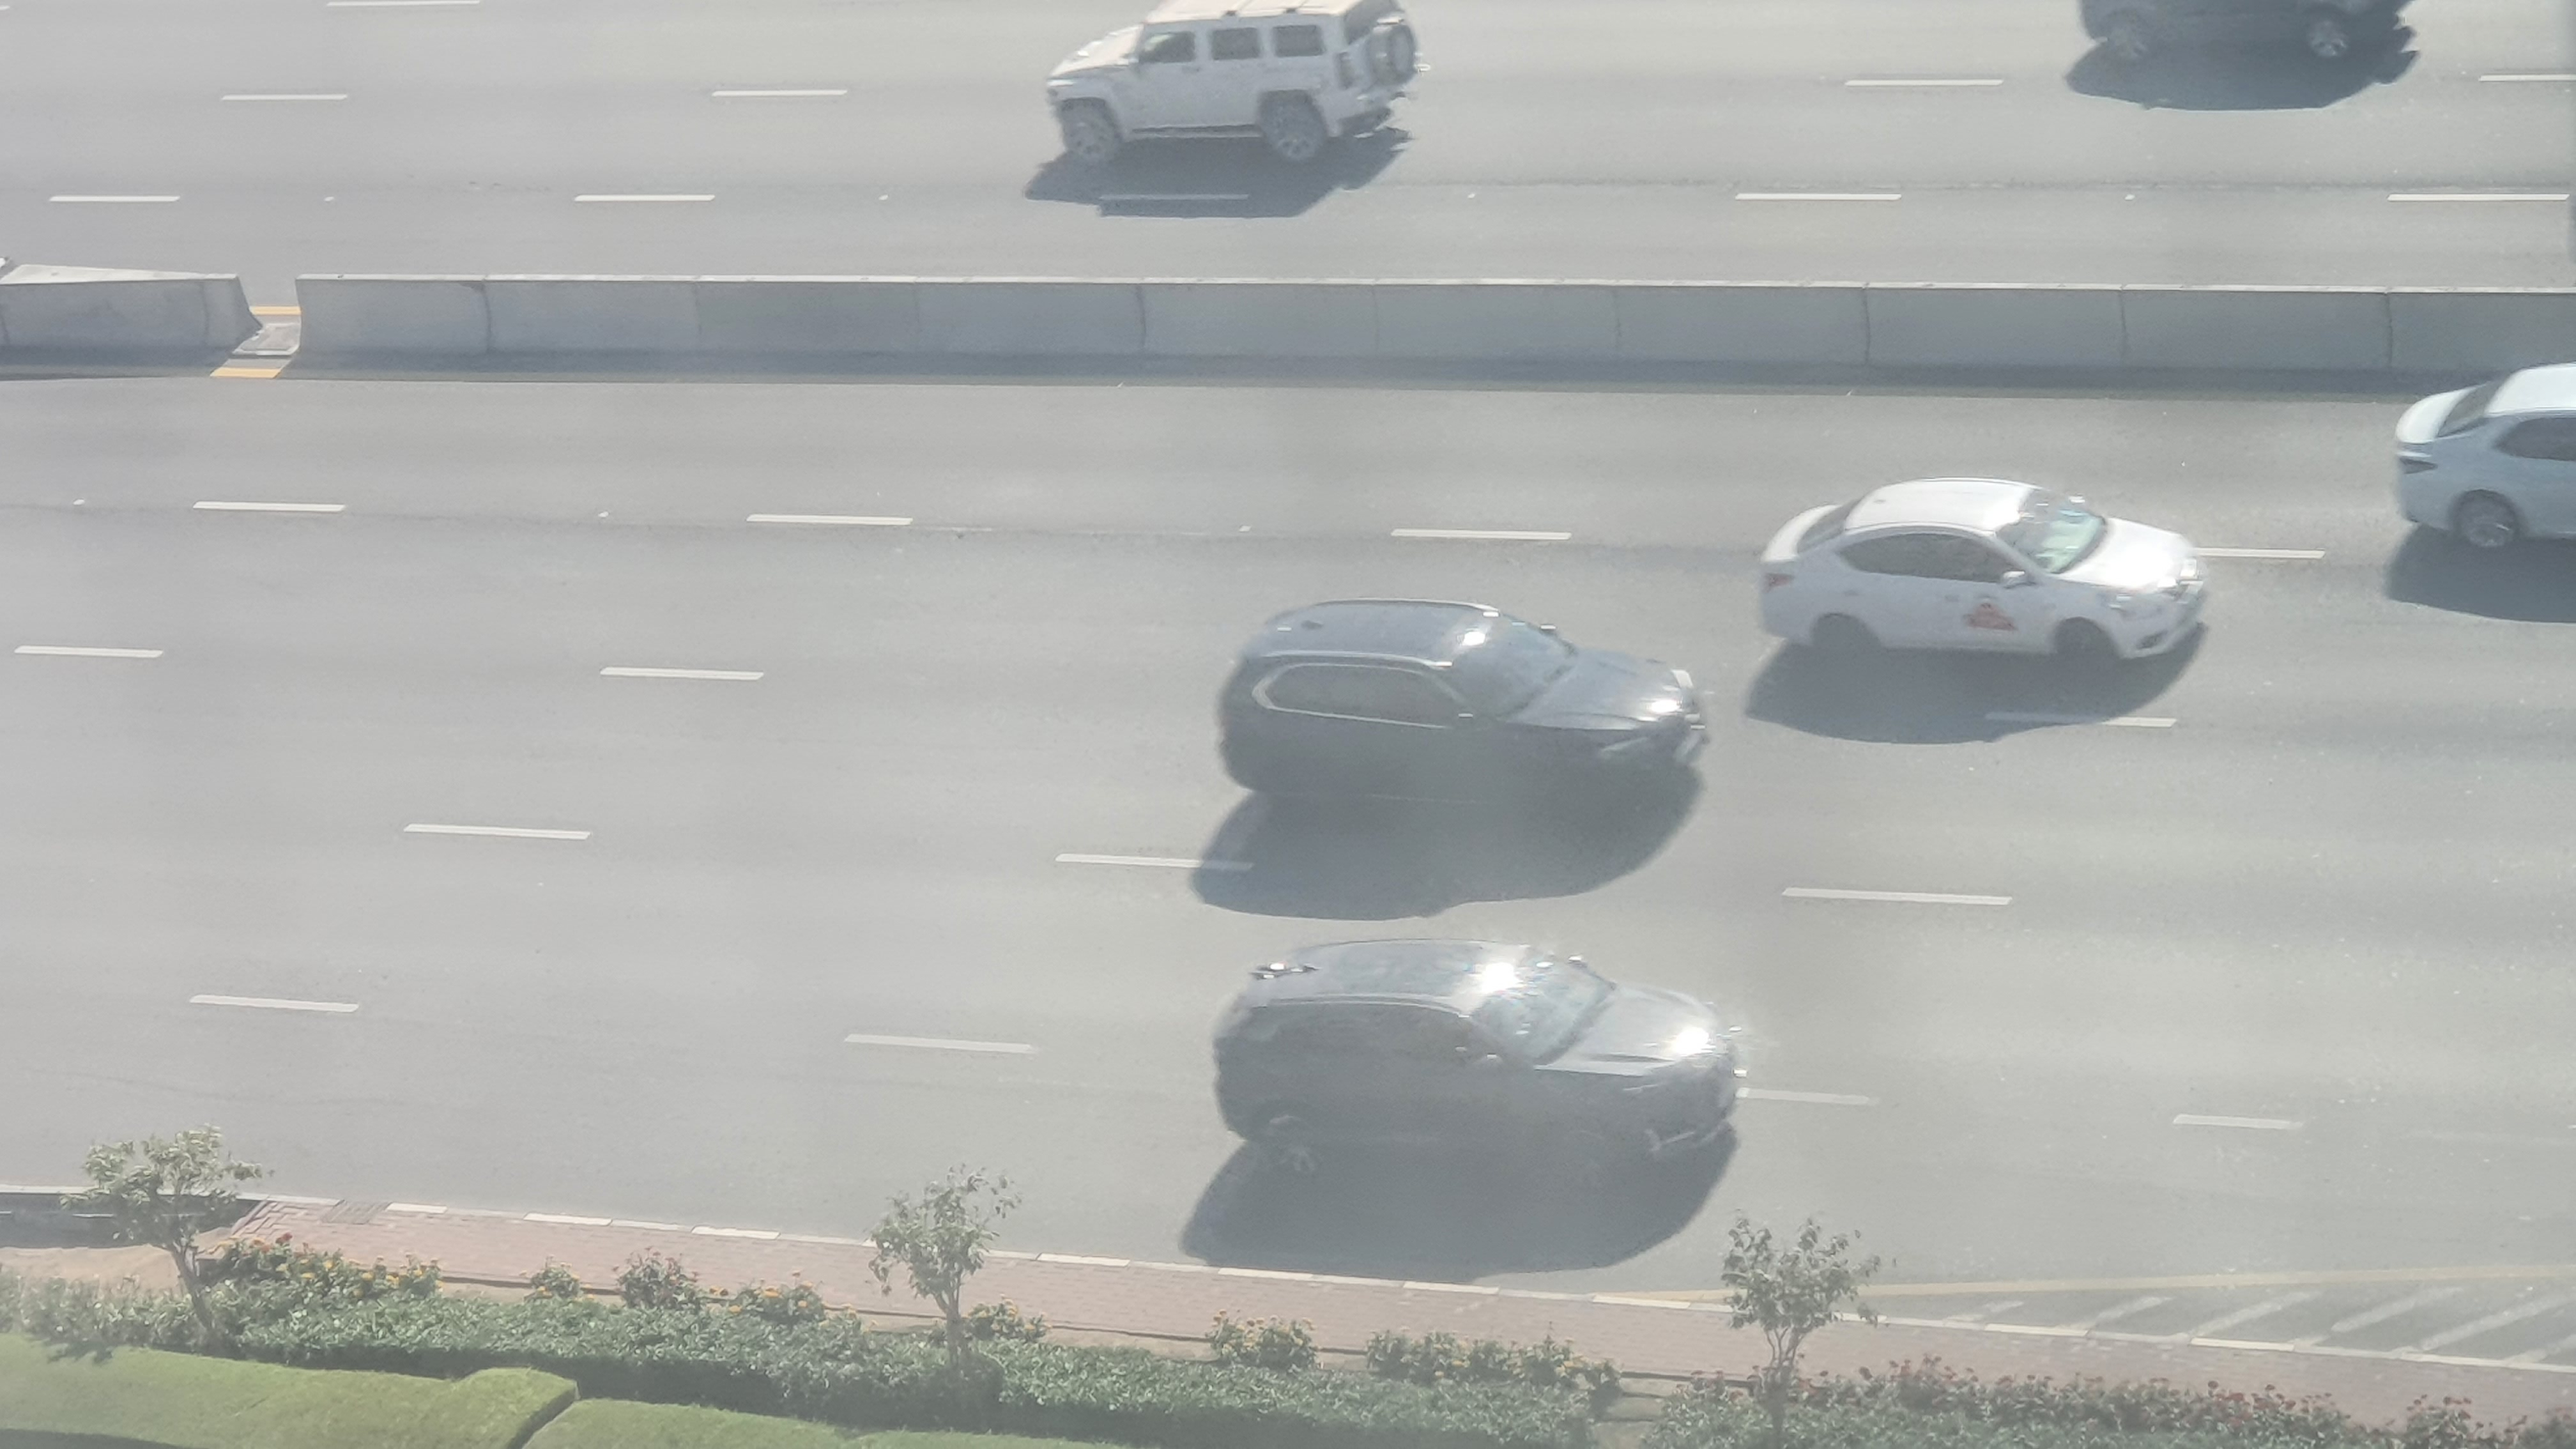NotSunroof: (1755, 481, 2215, 694)
Sunroof: (1212, 941, 1748, 1205), (1208, 584, 1716, 844)
